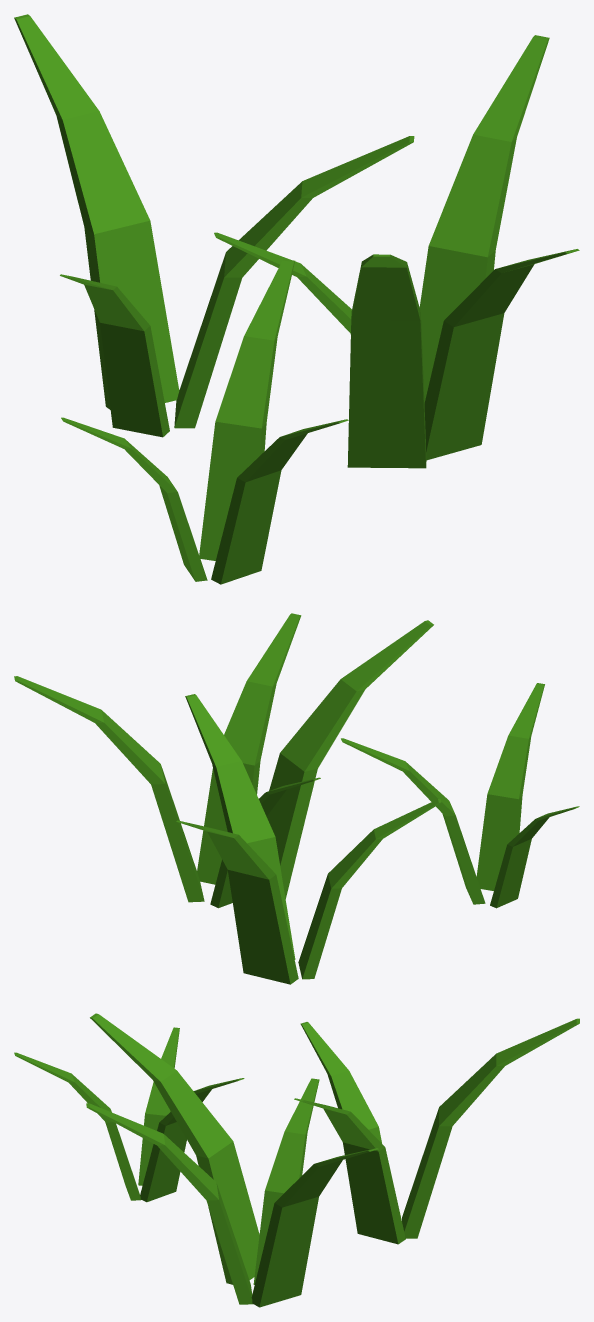
File: IsometricTile_Light_Grass.fbx
The picture shows the model from 3 angles, top to bottom: view 1: azimuth 30°, elevation 25°; view 2: azimuth 150°, elevation 25°; view 3: azimuth 270°, elevation 25°; orthographic projection. The views are drawn at different scales.
Visible parts, largest first — view 1: Grass.005, Grass.003, Grass.004; view 2: Grass.005, Grass.003, Grass.004; view 3: Grass.005, Grass.003, Grass.004.
Boxes of the visible parts, left/top/right/bottom form: Grass.005: left=214, top=35, right=579, bottom=468; Grass.003: left=14, top=14, right=414, bottom=437; Grass.004: left=61, top=259, right=348, bottom=584; Grass.005: left=14, top=613, right=433, bottom=908; Grass.003: left=176, top=694, right=441, bottom=984; Grass.004: left=341, top=683, right=579, bottom=908; Grass.005: left=86, top=1013, right=378, bottom=1307; Grass.003: left=294, top=1018, right=579, bottom=1244; Grass.004: left=14, top=1027, right=244, bottom=1202.
Size of the model in its own units: 0.5521 by 0.4916 by 0.2378.
